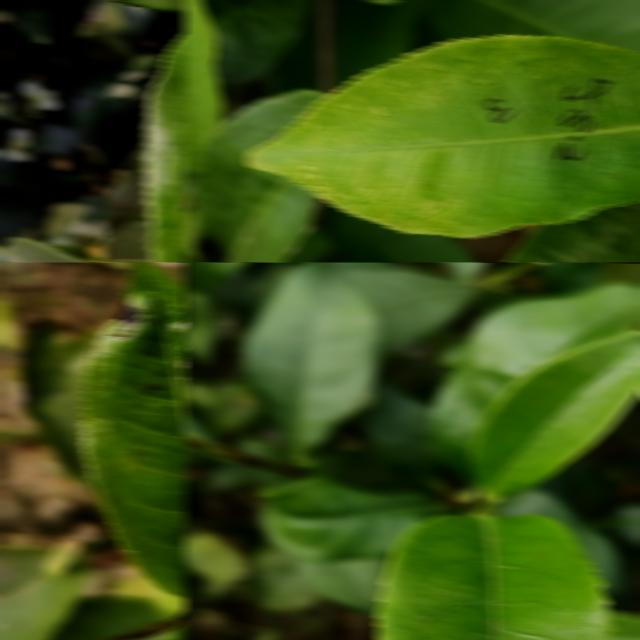Leaf: (246, 34, 640, 236), (429, 283, 640, 479), (80, 262, 187, 597), (468, 330, 640, 502), (376, 515, 612, 640), (242, 262, 382, 464), (193, 89, 325, 262), (259, 476, 442, 560), (20, 319, 99, 483), (343, 264, 477, 354), (428, 0, 640, 52), (201, 0, 318, 85), (323, 205, 478, 262), (0, 545, 90, 640), (504, 200, 640, 262), (183, 0, 224, 170), (363, 380, 440, 468), (102, 219, 154, 262), (607, 609, 640, 640)
